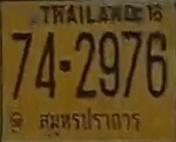2: (74, 32, 96, 97)
4: (34, 32, 55, 98)
6: (144, 31, 166, 96)
7: (11, 32, 33, 99), (122, 30, 143, 98)
9: (98, 32, 119, 95)
SPK: (35, 107, 143, 135)
